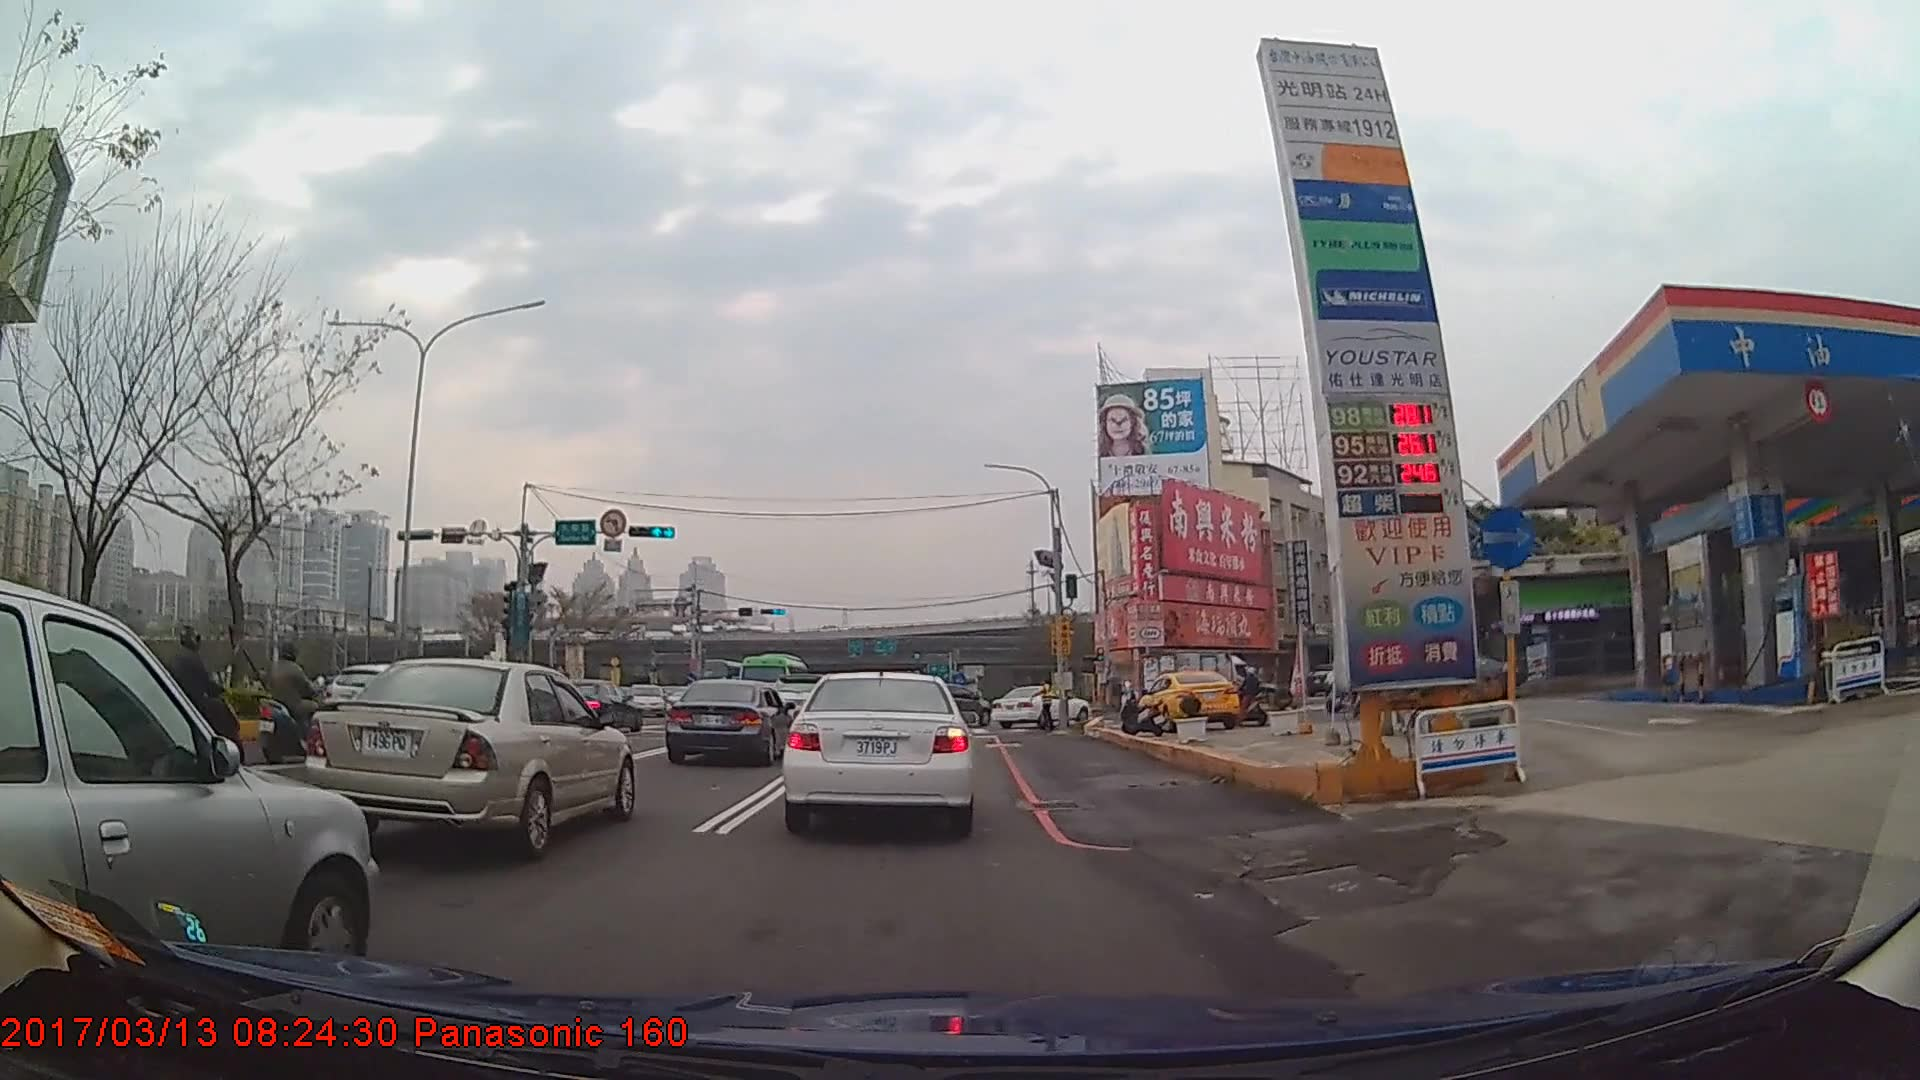pedestrian: (1029, 678, 1055, 733)
rider: (152, 625, 243, 780), (256, 641, 331, 765), (1332, 656, 1376, 718), (1232, 667, 1271, 728)
vehicle: (0, 578, 377, 990), (306, 657, 636, 860), (784, 665, 976, 835), (665, 677, 793, 765), (1138, 647, 1253, 713), (1141, 669, 1247, 731), (548, 677, 642, 731), (989, 682, 1092, 729), (737, 651, 812, 709), (919, 681, 992, 727)
